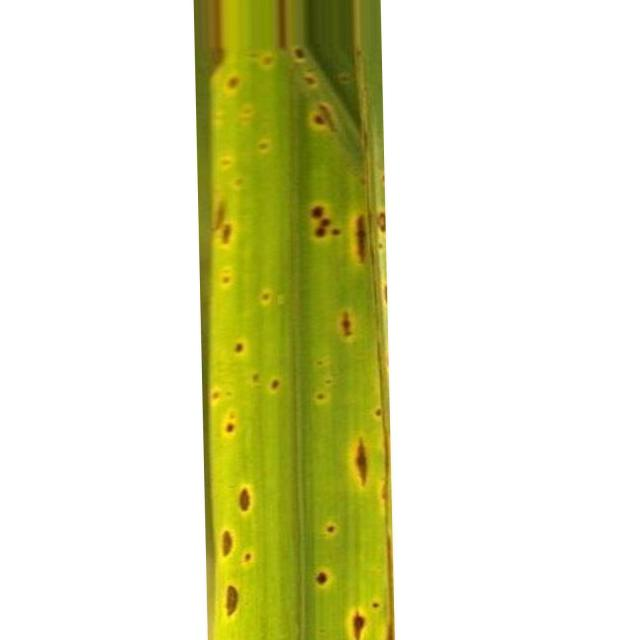Brown_Spot: (214, 201, 232, 244), (354, 439, 369, 485), (311, 205, 331, 238), (309, 105, 332, 132), (356, 215, 366, 261), (226, 585, 239, 615), (221, 530, 234, 556), (352, 614, 365, 640), (259, 288, 275, 308), (261, 51, 278, 67), (304, 72, 319, 89), (220, 268, 234, 286), (239, 489, 250, 511), (341, 312, 351, 336), (324, 521, 339, 537), (232, 339, 246, 355), (220, 154, 234, 170), (315, 571, 328, 585), (228, 75, 240, 89), (258, 138, 270, 152), (378, 212, 386, 231), (328, 225, 341, 236), (269, 378, 280, 391), (234, 176, 244, 189), (295, 46, 305, 59), (371, 601, 380, 609)
